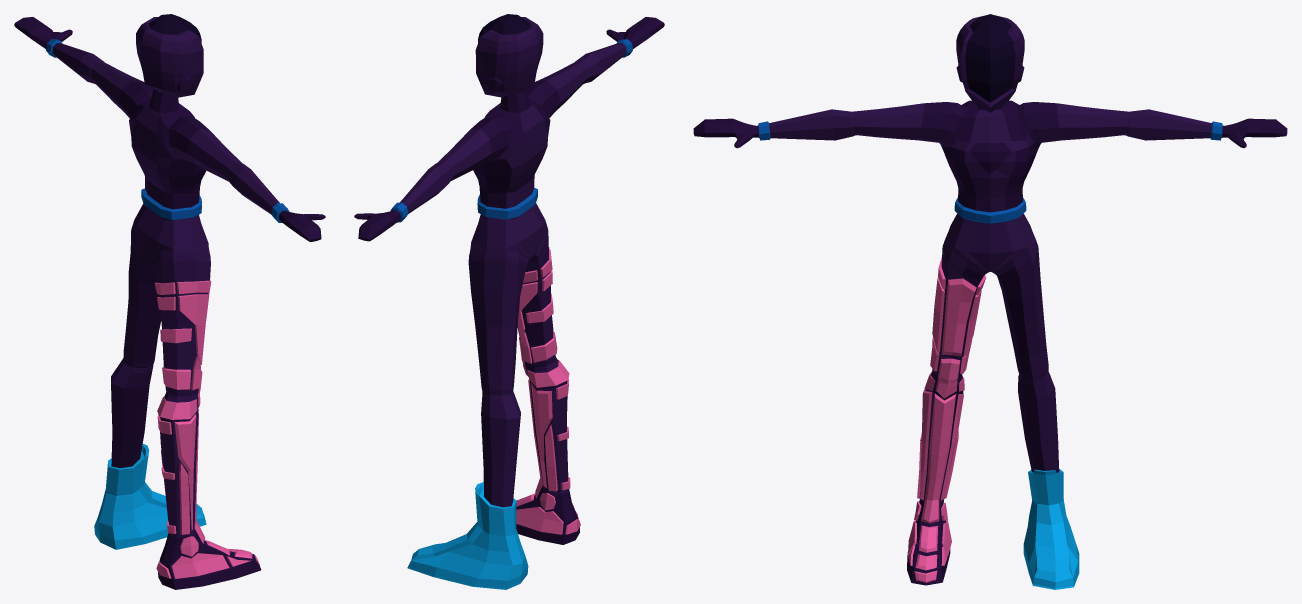
Rendered from Player Proto.fbx.
The picture shows the model from 3 angles, left to right: view 1: azimuth 30°, elevation 25°; view 2: azimuth 150°, elevation 25°; view 3: azimuth 270°, elevation 25°; orthographic projection.
Visible parts, largest first — view 1: Player; view 2: Player; view 3: Player.
Part boxes in pixels (<box>): Player: <box>14,14,325,589</box>; Player: <box>354,14,664,589</box>; Player: <box>693,14,1287,589</box>.
Bounding box in the file's own units: 88.52 × 419 × 418.
